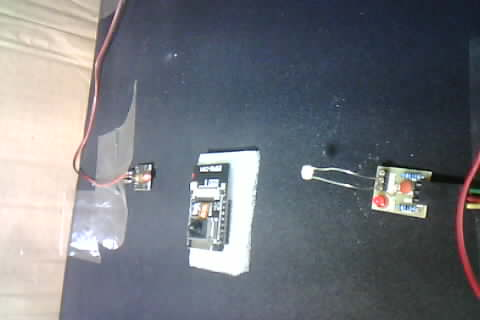esp32: (182, 151, 255, 272)
